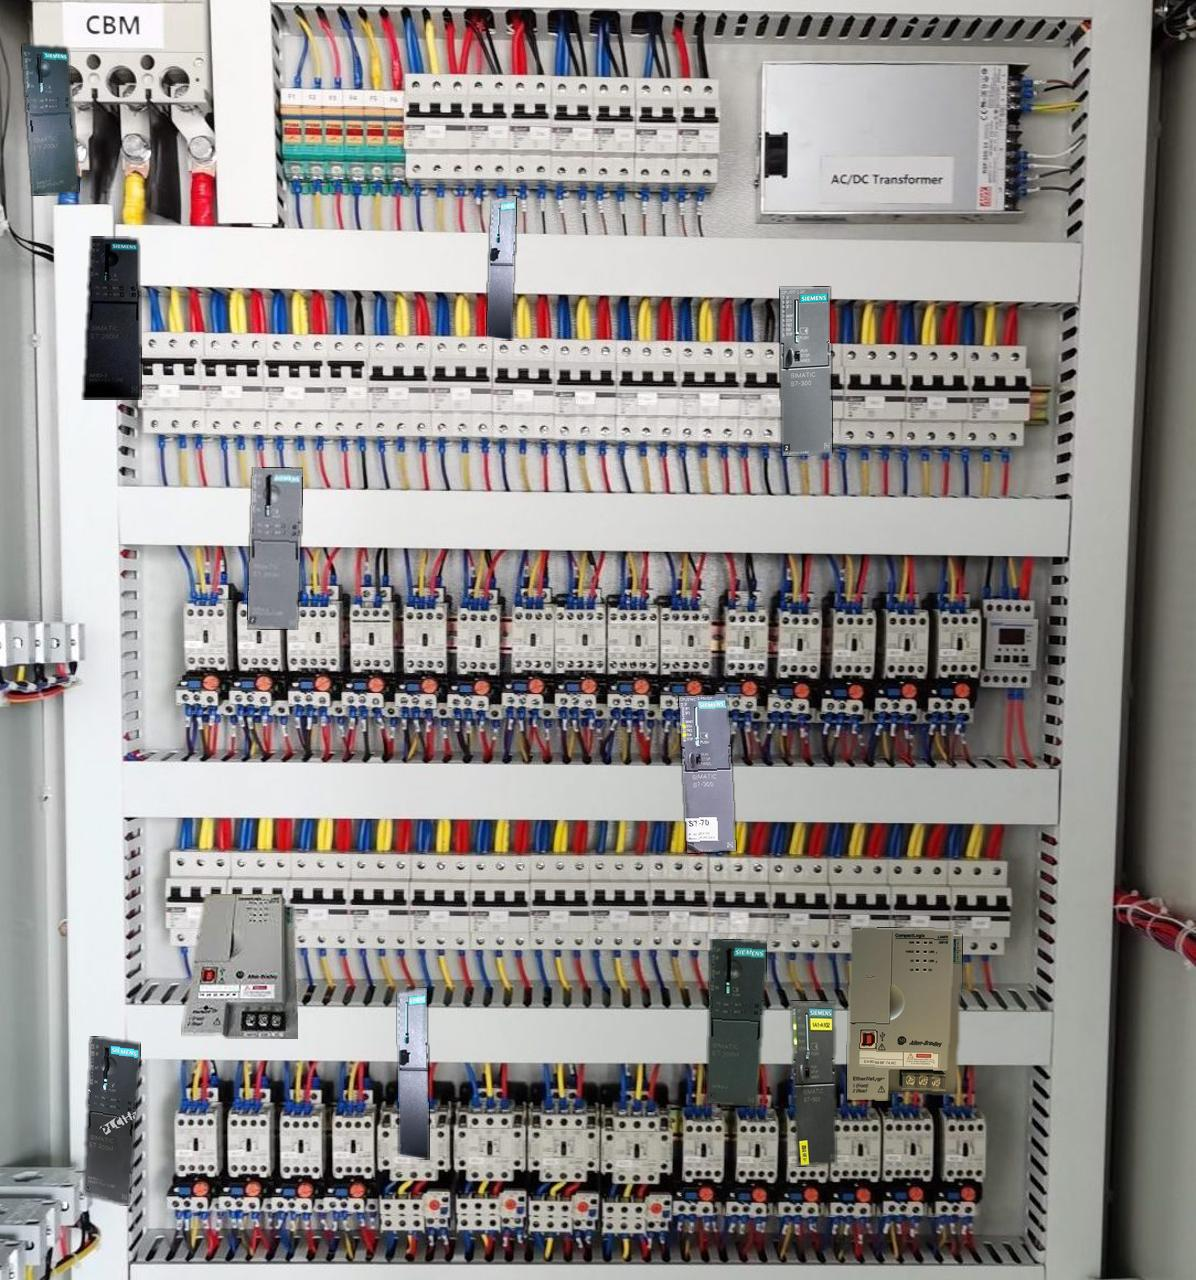AllenBradley: (848, 927, 961, 1100), (181, 895, 297, 1038)
Siemens: (679, 695, 735, 852), (780, 287, 831, 455), (791, 1001, 835, 1165), (398, 988, 428, 1158), (487, 196, 516, 339)
